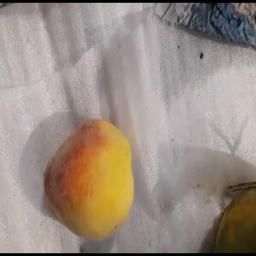Peach Semifresh: (34, 110, 150, 245)
